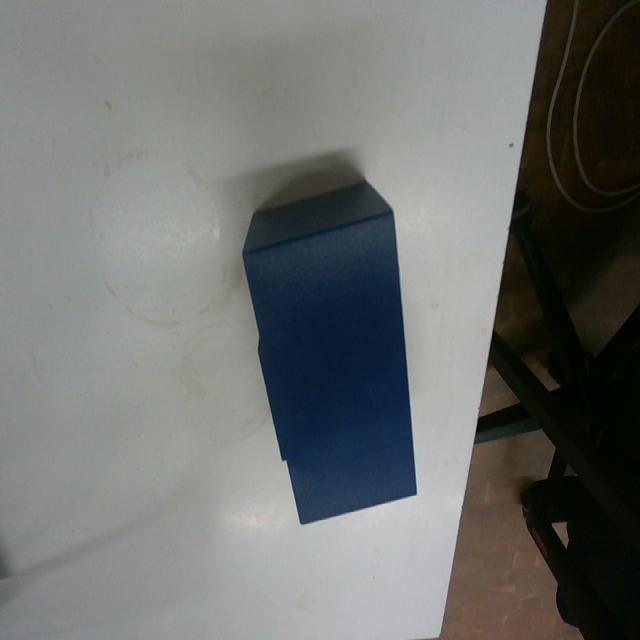Blue Cuboid: (240, 175, 419, 525)
